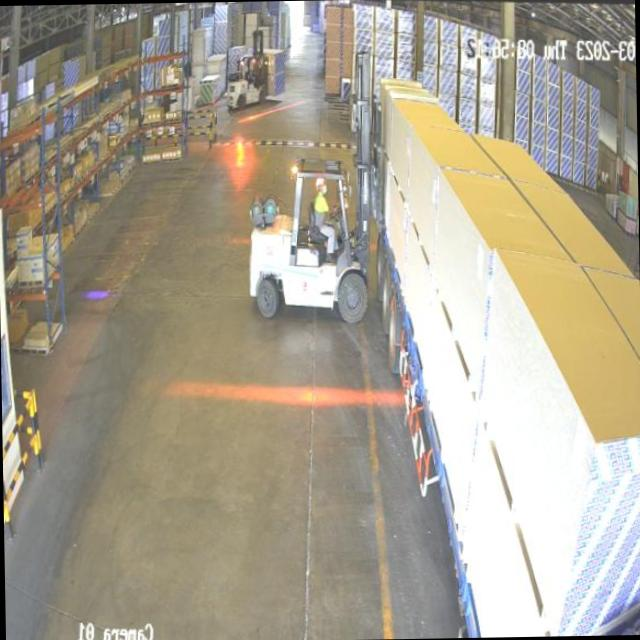driver: (307, 176, 338, 266)
forklift: (243, 144, 376, 328), (224, 52, 266, 115)
